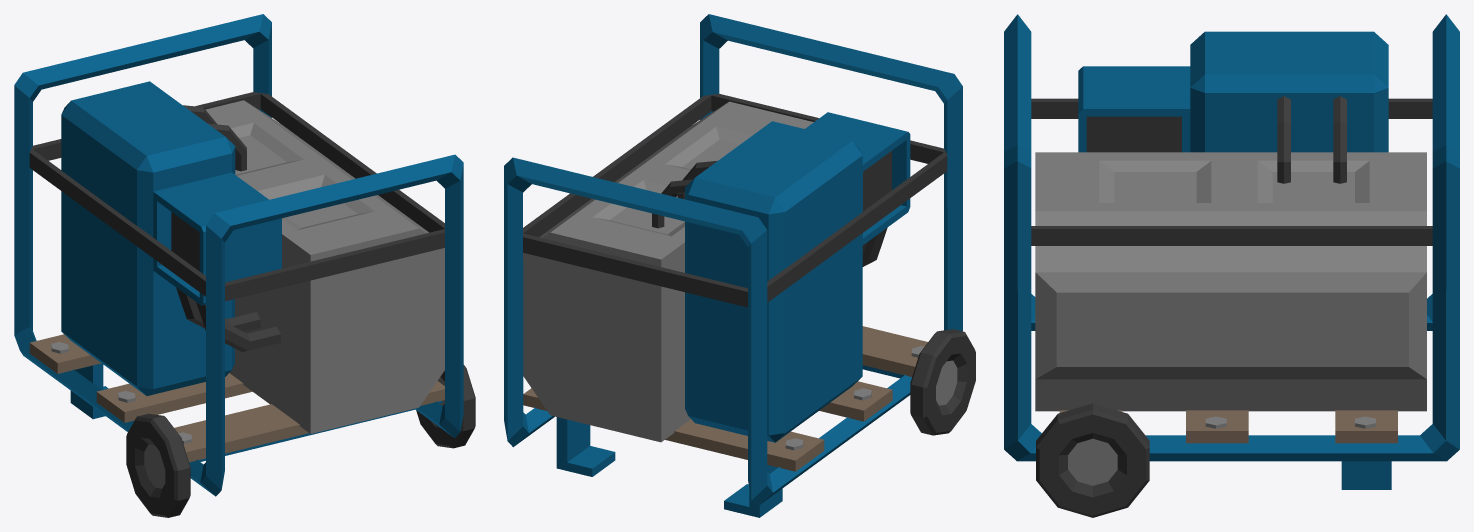
File: model_generator.fbx
3 renders of one model, left to right at view 1: azimuth 30°, elevation 25°; view 2: azimuth 150°, elevation 25°; view 3: azimuth 270°, elevation 25°, orthographic. The views are drawn at different scales.
Parts seen in each view (by area): view 1: model_generator; view 2: model_generator; view 3: model_generator.
Part boxes in pixels (bbox=[...]): model_generator: bbox=[14, 14, 475, 517]; model_generator: bbox=[504, 14, 975, 517]; model_generator: bbox=[1004, 14, 1459, 517].
Size of the model in its own units: 247 by 250 by 289.
Materials: 1 (1 with a texture image).
